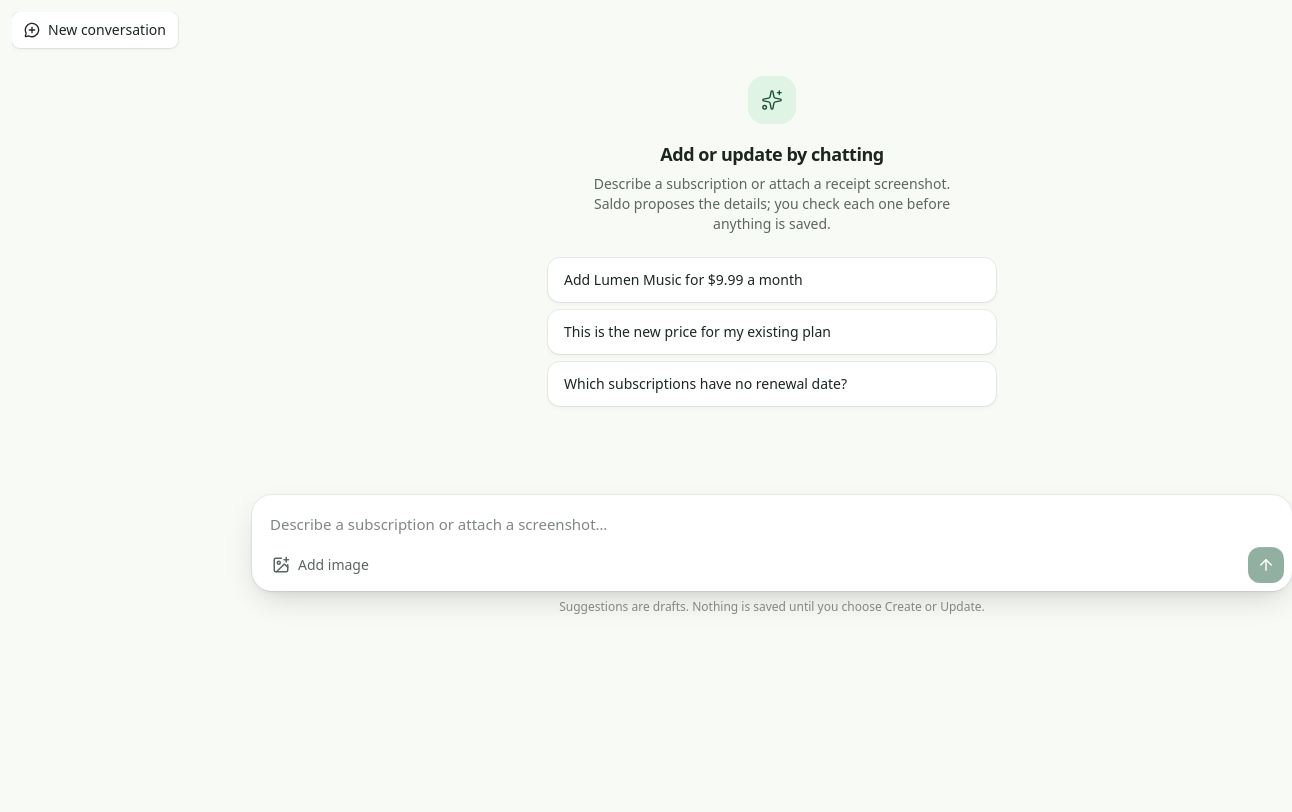
chat › turns a reply's proposals into review cards
In the text box named "Message Saldo": (772,525) [260,503,1284,547], type "Add Synthetic Notes"
Then press Enter
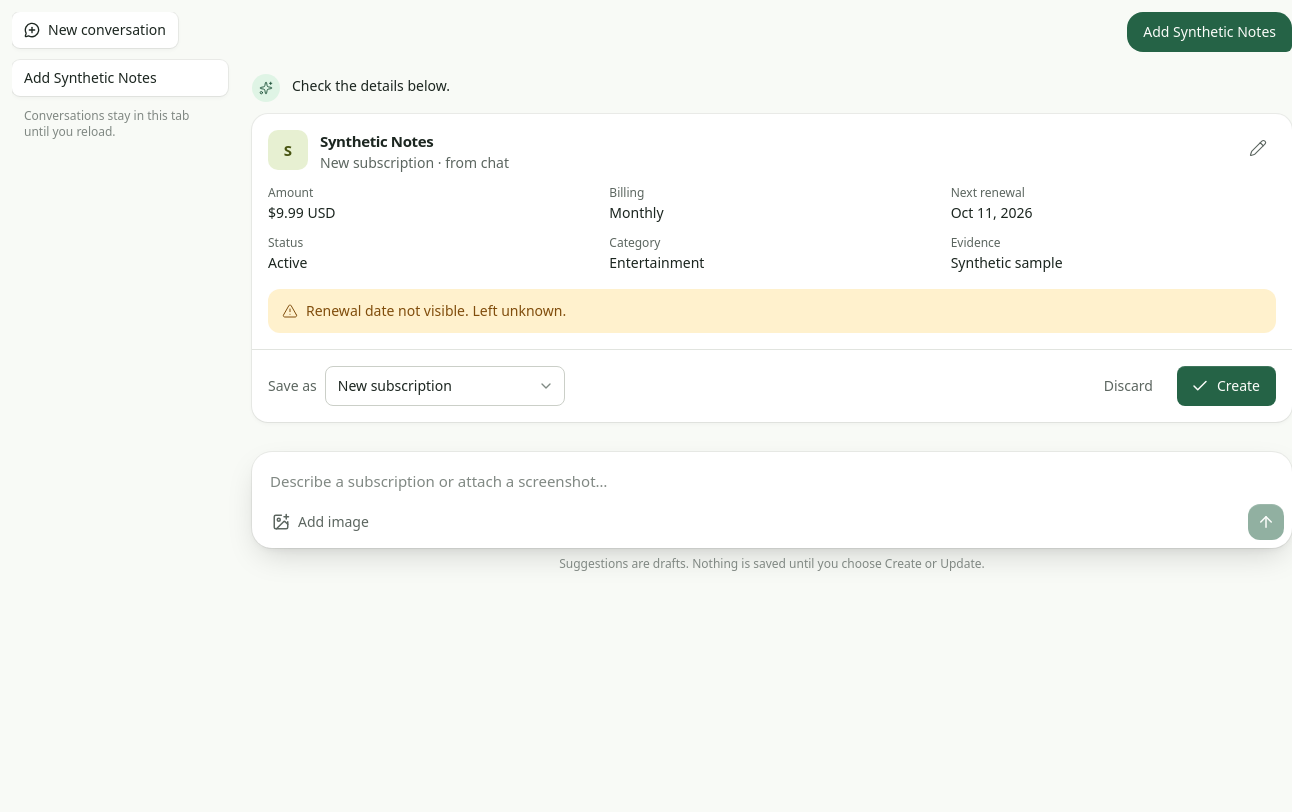
Now the text "Check the details below." is shown, box [292,72,450,102]
Now the heading "Synthetic Notes" is shown, box [320,131,433,151]
Now the text "Renewal date not visible. Left unknown." is shown, box [306,300,566,320]
